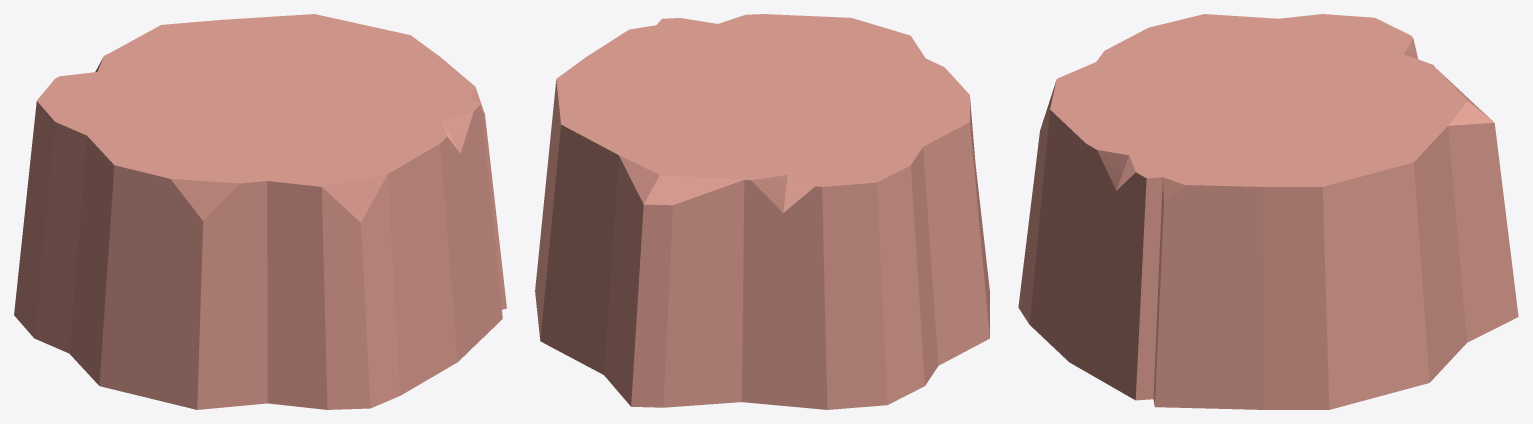
File: SuperGrid_Hexagon_016_Vlad.fbx
The picture shows the model from 3 angles, left to right: view 1: azimuth 30°, elevation 25°; view 2: azimuth 150°, elevation 25°; view 3: azimuth 270°, elevation 25°; orthographic projection.
Visible parts, largest first — view 1: SuperGrid_Hexagon.016; view 2: SuperGrid_Hexagon.016; view 3: SuperGrid_Hexagon.016.
Boxes of the visible parts, bbox=[...] form: SuperGrid_Hexagon.016: bbox=[14, 14, 506, 409]; SuperGrid_Hexagon.016: bbox=[535, 14, 989, 409]; SuperGrid_Hexagon.016: bbox=[1018, 14, 1518, 409].
Size of the model in its own units: 19053 by 10000 by 21163.
